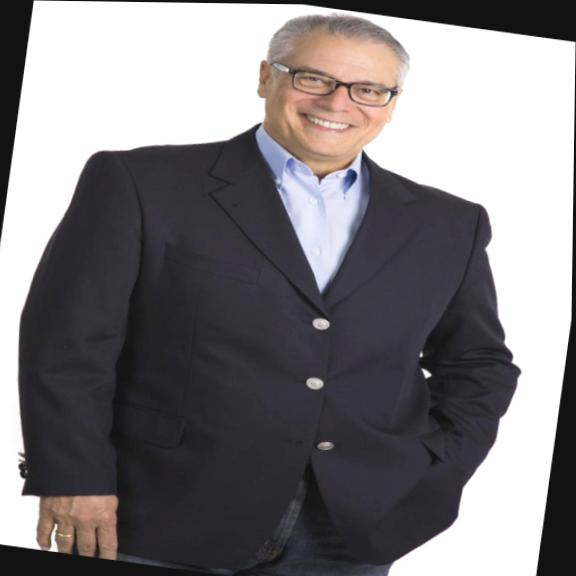no_safety_vest: (0, 103, 552, 576)
